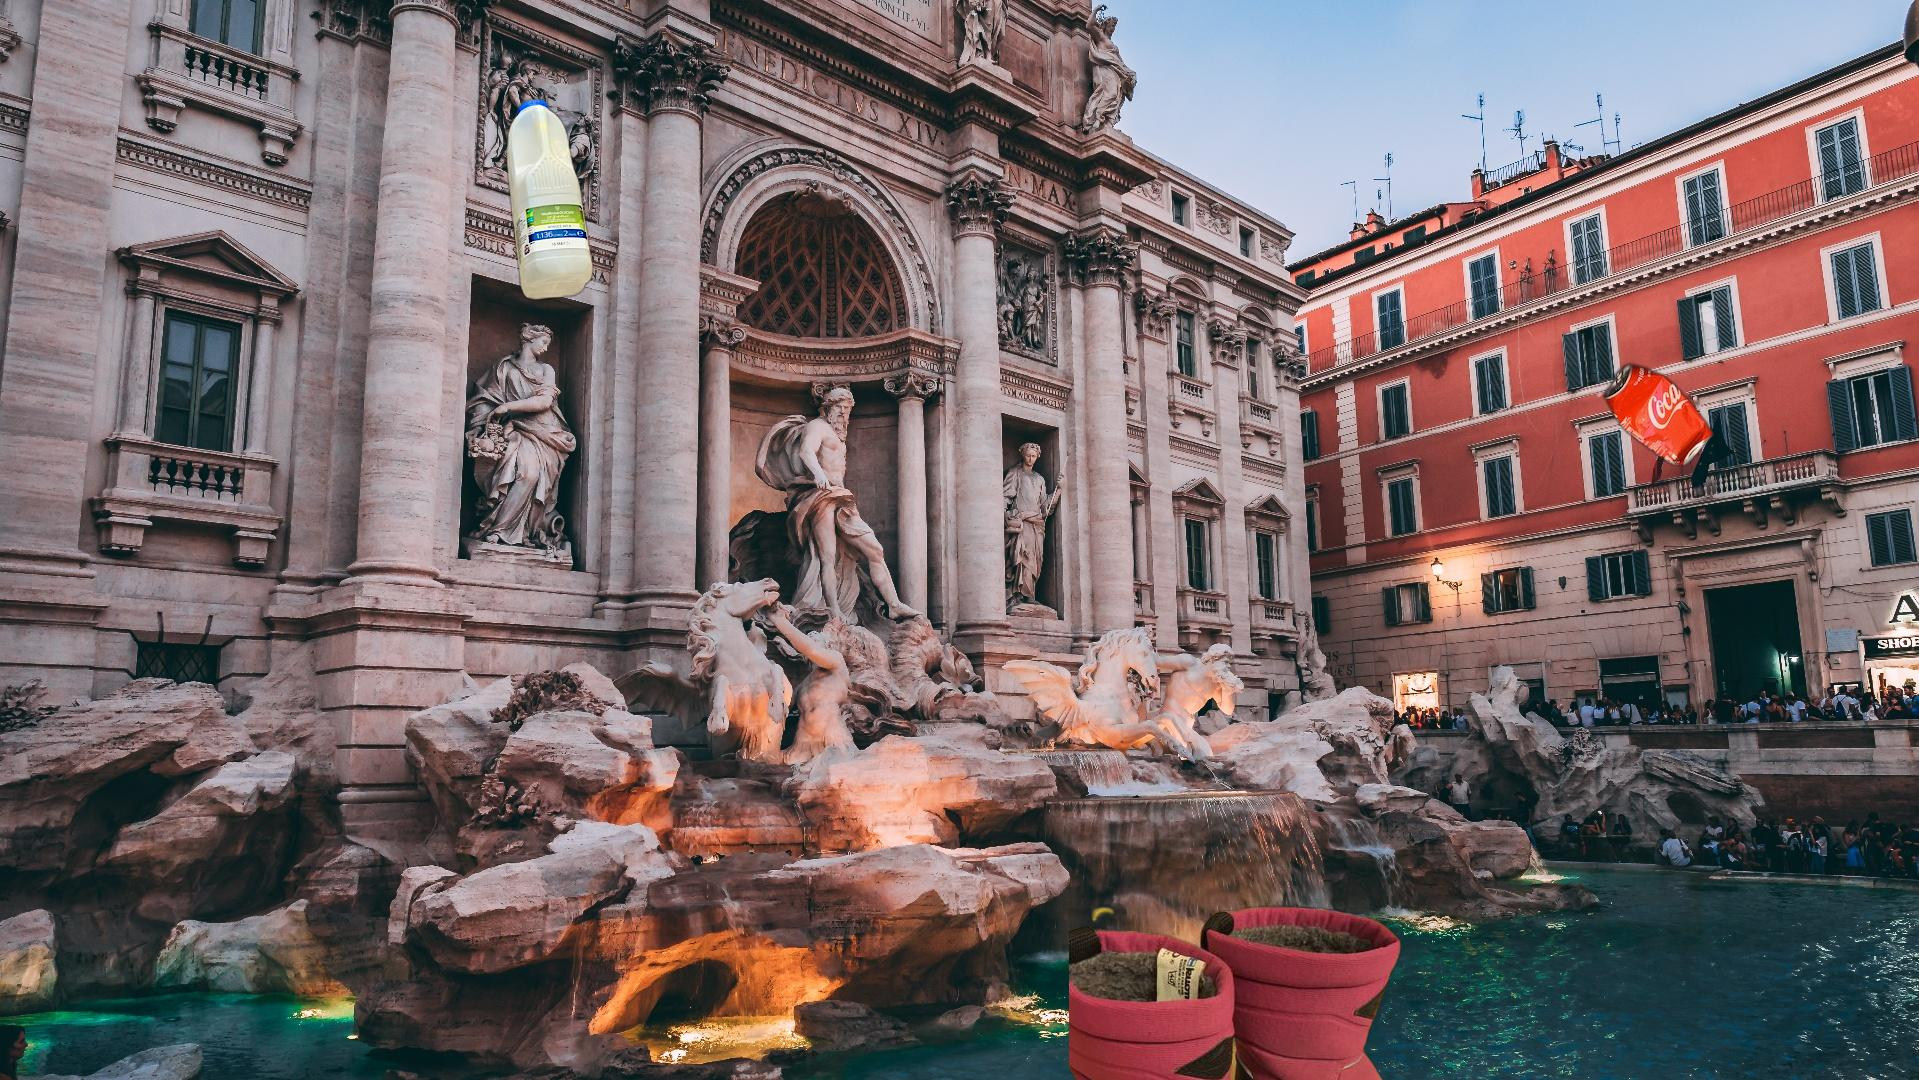metal-cans: (1599, 79, 1887, 472)
plastic-bottles: (503, 92, 598, 305)
shoes: (1069, 831, 1470, 1080)
trashbox-cardboard: (778, 692, 1919, 1080), (1443, 835, 1703, 1029)
